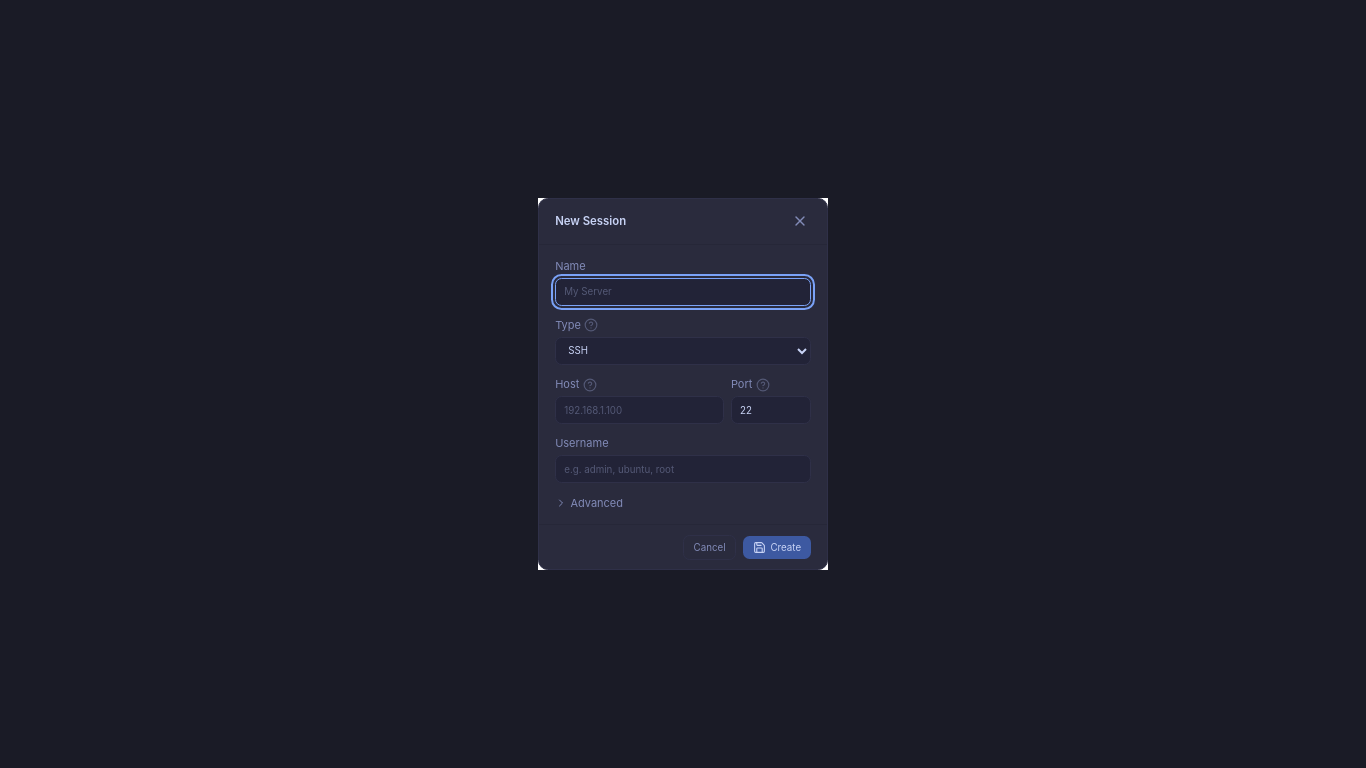
Test: SessionEditor › FT-C-06: renders all form fields and validates required fields
Expected: the dialog is shown, [538,198,828,570]
Expected: the field with placeholder "My Server" is shown, [555,278,811,306]
Note: Advanced fields are behind the collapsed "Advanced" toggle
Click the button "Advanced" at (589, 503), box [555,494,623,511]
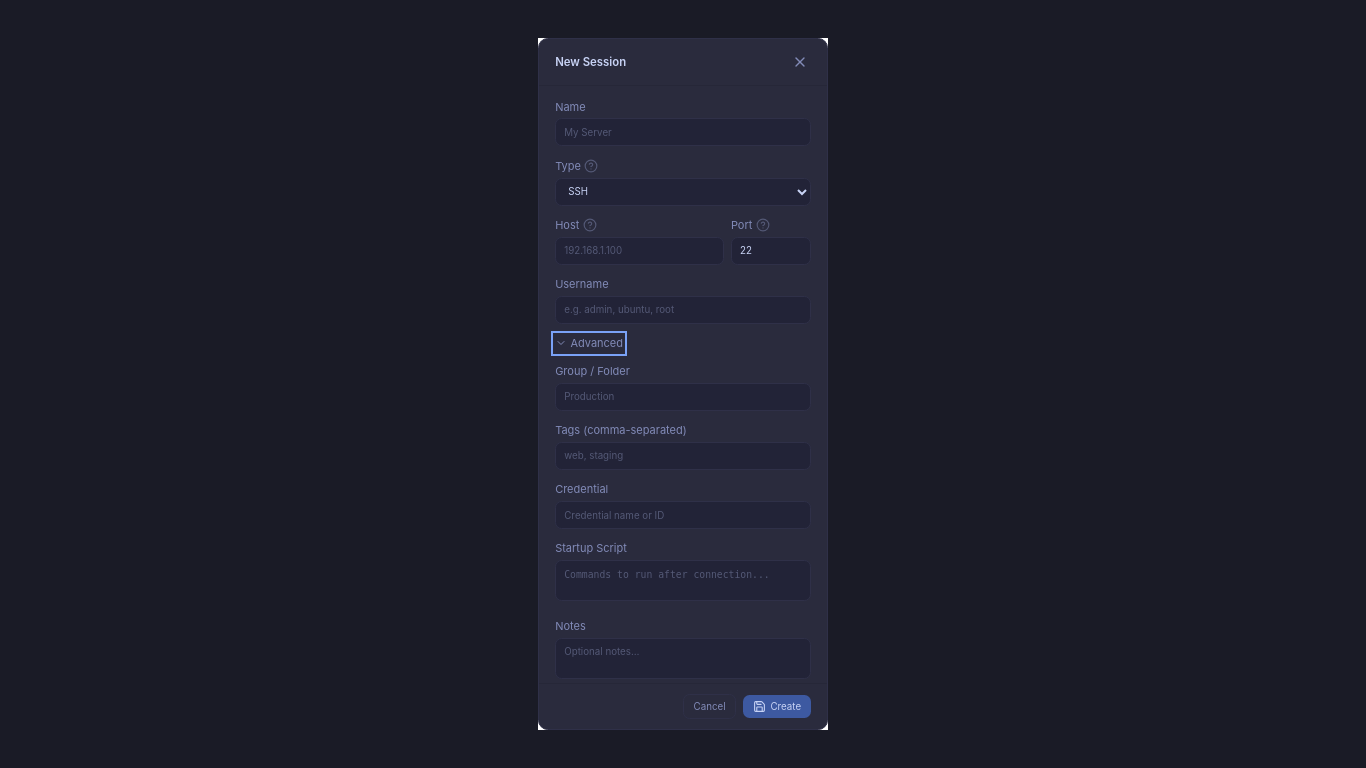
Expected: the field with placeholder "Production" is shown, [555,383,811,411]
Expected: the field with placeholder "web, staging" is shown, [555,442,811,470]
Expected: the field with placeholder "Credential name or ID" is shown, [555,501,811,529]
Note: Submit without filling required fields
Click the button "Create" at (777, 706), box [743,695,811,718]
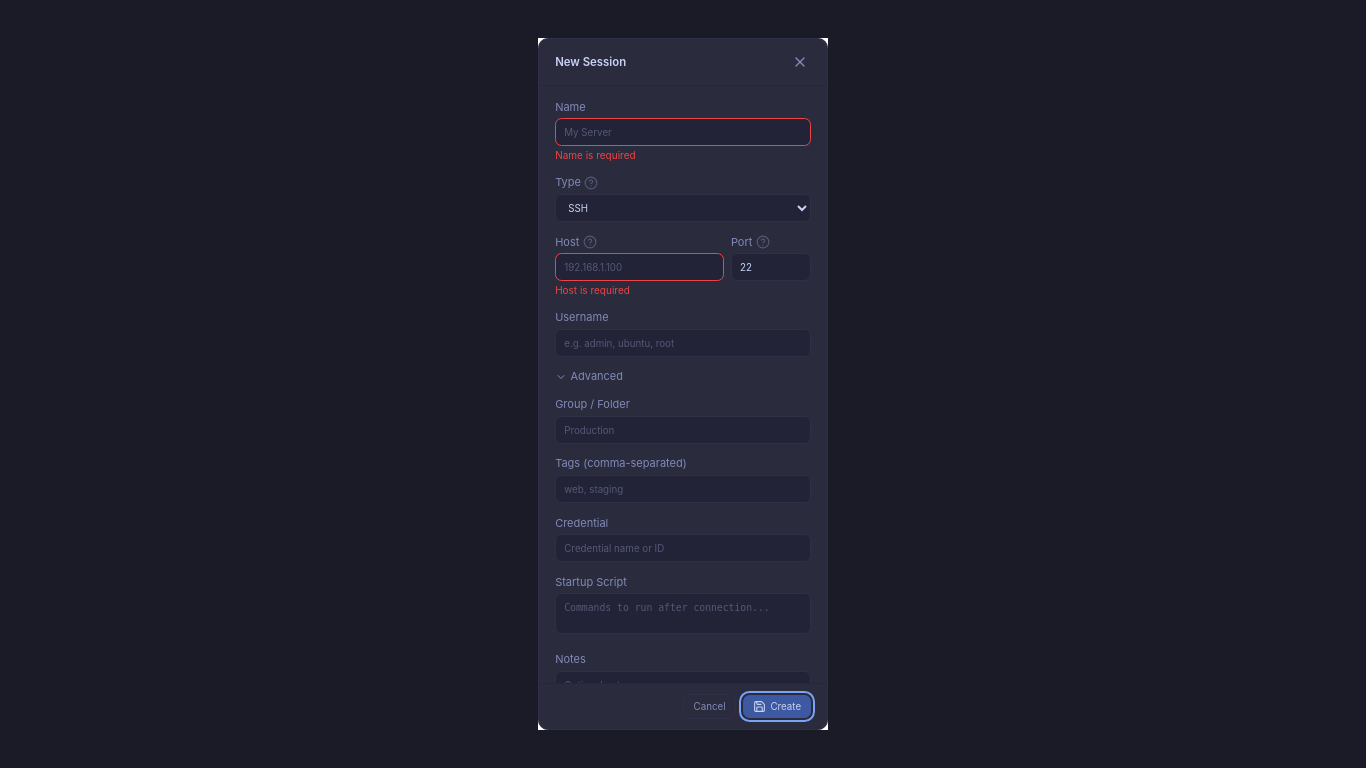
Expected: the text "Name is required" is shown, [555,149,636,161]
Expected: the text "Host is required" is shown, [555,284,630,296]
